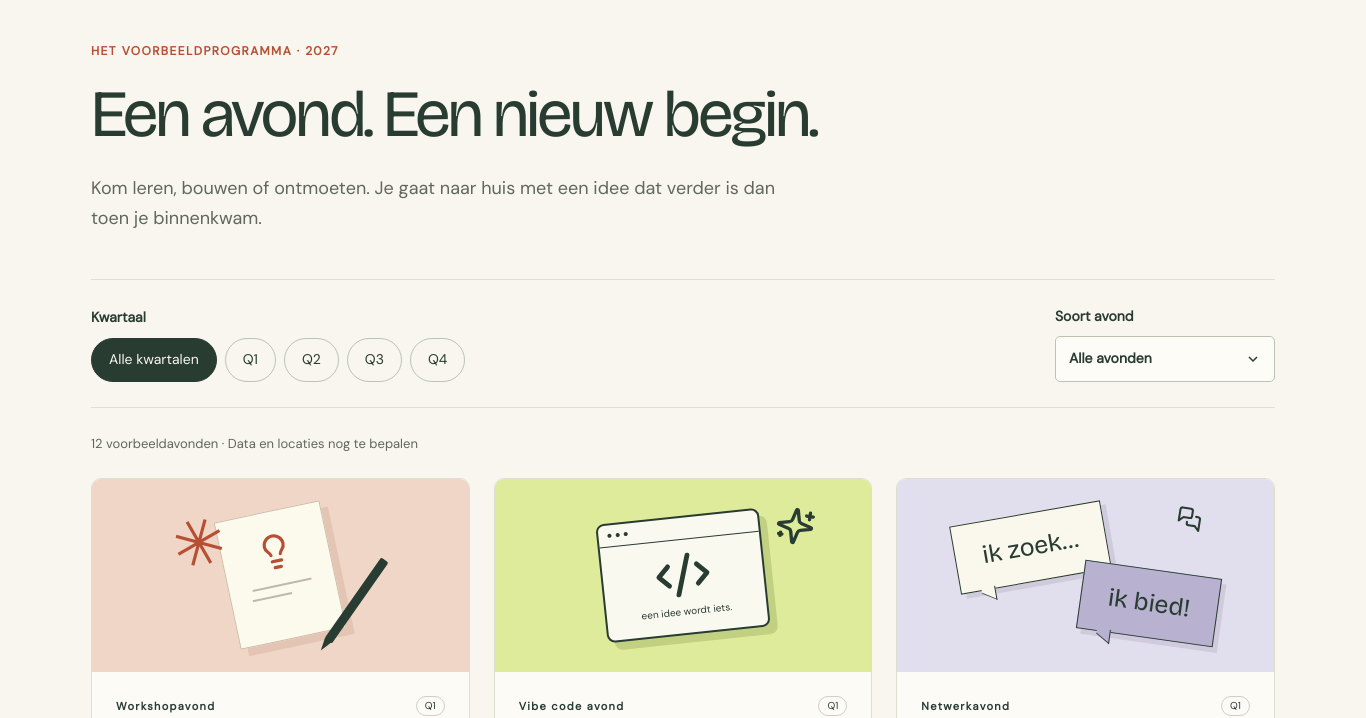
Test case: program filters combine quarter and type
Click the button "Q2". click: (311, 360)
box: [284,338,339,382]
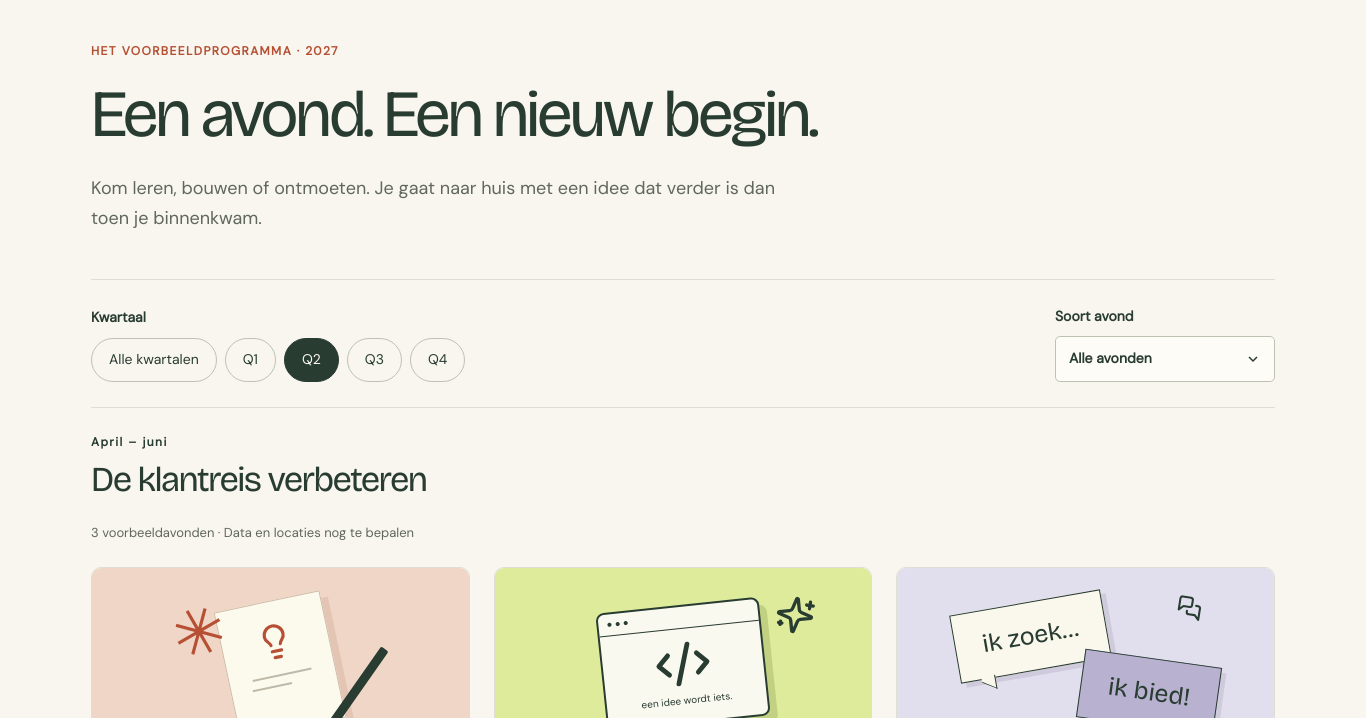
Select "Vibe code avond" in the dropdown labelled "Soort avond". click: (1165, 359)
box: [1055,336,1275,382]
(page scrolled)
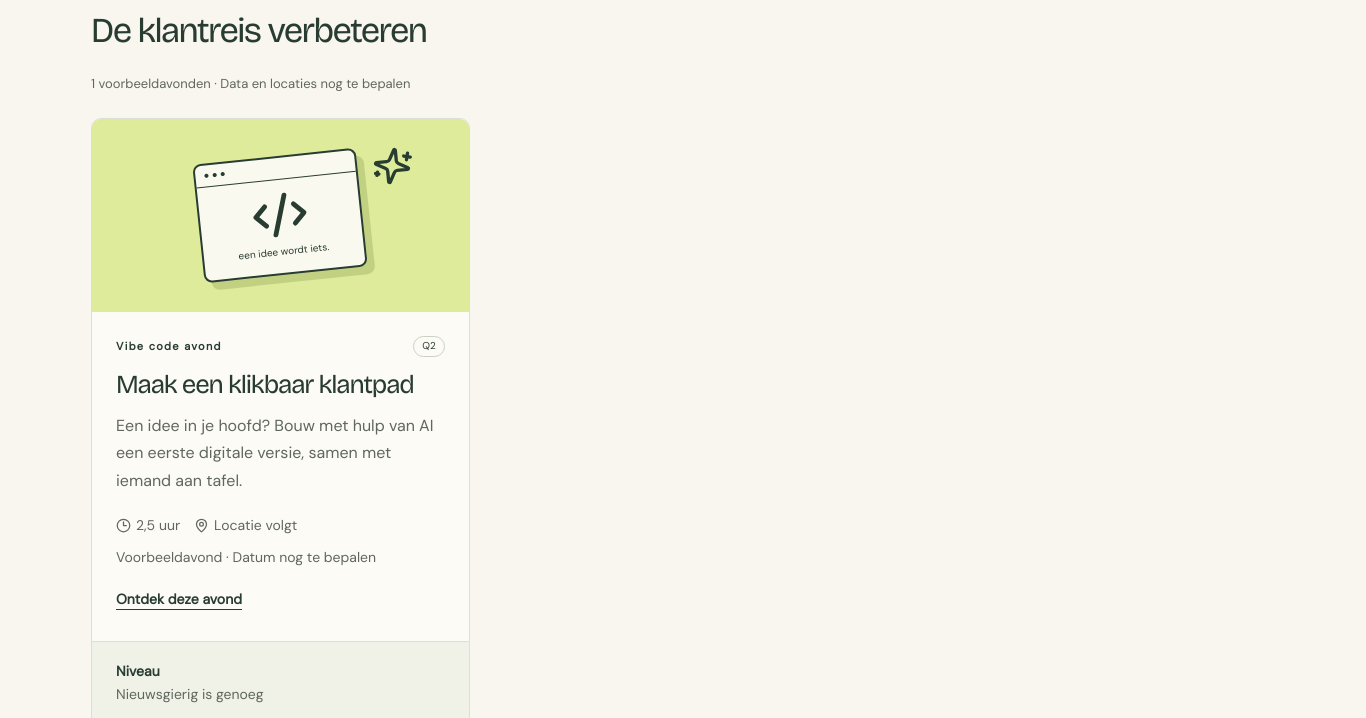
Expected: the link "Maak een klikbaar klantpad" is shown, [116,368,414,400]
Result: the message shows "1 voorbeeldavonden" at [91,75,410,92]
